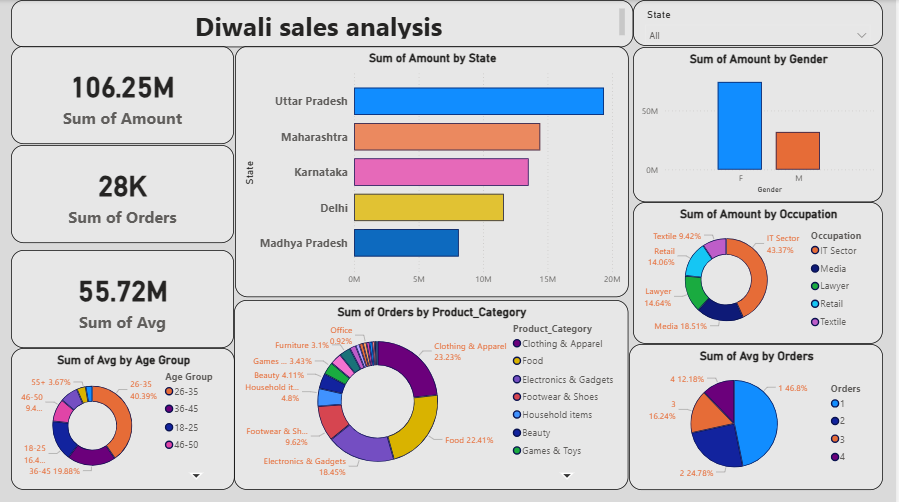

What the dashboard file says about the page in this screenshot:
{"tool":"powerbi","page":{"name":"Page 1","canvas":[1280,720],"ordinal":0},"visuals":[{"type":"textbox","box":[26.9,0,881.6,66.6],"z":0},{"type":"columnChart","fields":{"Category":["clean_diwali_sales_data.Gender"],"Y":["Sum(clean_diwali_sales_data.Amount)"]},"box":[908.5,66.6,354.3,219.7],"z":1000},{"type":"donutChart","fields":{"Y":["Sum(clean_diwali_sales_data.Amount)"],"Category":["clean_diwali_sales_data.Occupation"]},"box":[908.5,286.3,354.3,201.3],"z":2000},{"type":"clusteredBarChart","fields":{"Category":["clean_diwali_sales_data.State"],"Y":["Sum(clean_diwali_sales_data.Amount)"]},"box":[344.4,65.2,558.4,355.7],"z":3000},{"type":"donutChart","fields":{"Category":["clean_diwali_sales_data.Product_Category"],"Y":["Sum(clean_diwali_sales_data.Orders)"]},"box":[342.7,425,559.4,268.8],"z":4000},{"type":"card","fields":{"Values":["Sum(clean_diwali_sales_data.Amount)"]},"box":[26.9,65.5,315.8,139.4],"z":5000},{"type":"card","fields":{"Values":["Sum(clean_diwali_sales_data.Orders)"]},"box":[26.9,204.9,315.8,139.4],"z":6000},{"type":"card","fields":{"Values":["Sum(clean_diwali_sales_data.Avg)"]},"box":[26.9,354.4,315.8,139.4],"z":7000},{"type":"pieChart","fields":{"Y":["Sum(clean_diwali_sales_data.Avg)"],"Category":["clean_diwali_sales_data.Orders"]},"box":[902.8,487.6,360,206.9],"z":8000},{"type":"donutChart","fields":{"Category":["clean_diwali_sales_data.Age Group"],"Y":["Sum(clean_diwali_sales_data.Avg)"]},"box":[26.9,493.2,317.5,201.3],"z":9000},{"type":"slicer","fields":{"Values":["clean_diwali_sales_data.State"]},"box":[908.5,0,354.3,65.2],"z":9001}]}

Visuals, with their boxes in screenshot pixels (x1, y1, x2, y2), scaled from the page's 1280x720 canvas onto the 899x502 screenshot:
textbox: [left=19, top=0, right=638, bottom=46]
columnChart - clean_diwali_sales_data.Gender x Sum(clean_diwali_sales_data.Amount): [left=638, top=46, right=887, bottom=200]
donutChart - Sum(clean_diwali_sales_data.Amount) x clean_diwali_sales_data.Occupation: [left=638, top=200, right=887, bottom=340]
clusteredBarChart - clean_diwali_sales_data.State x Sum(clean_diwali_sales_data.Amount): [left=242, top=45, right=634, bottom=293]
donutChart - clean_diwali_sales_data.Product_Category x Sum(clean_diwali_sales_data.Orders): [left=241, top=296, right=634, bottom=484]
card - Sum(clean_diwali_sales_data.Amount): [left=19, top=46, right=241, bottom=143]
card - Sum(clean_diwali_sales_data.Orders): [left=19, top=143, right=241, bottom=240]
card - Sum(clean_diwali_sales_data.Avg): [left=19, top=247, right=241, bottom=344]
pieChart - Sum(clean_diwali_sales_data.Avg) x clean_diwali_sales_data.Orders: [left=634, top=340, right=887, bottom=484]
donutChart - clean_diwali_sales_data.Age Group x Sum(clean_diwali_sales_data.Avg): [left=19, top=344, right=242, bottom=484]
slicer - clean_diwali_sales_data.State: [left=638, top=0, right=887, bottom=45]
